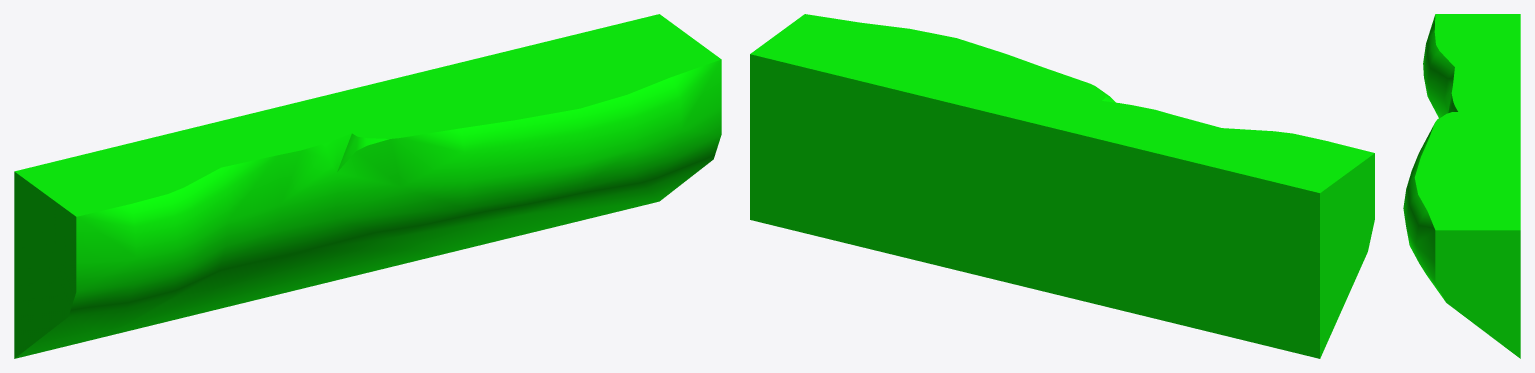
File: SM_GrassGround_18.FBX
The picture shows the model from 3 angles, left to right: view 1: azimuth 30°, elevation 25°; view 2: azimuth 150°, elevation 25°; view 3: azimuth 270°, elevation 25°; orthographic projection. The views are drawn at different scales.
Parts seen in each view (by area): view 1: 18; view 2: 18; view 3: 18.
Boxes of the visible parts, x1,y1,x2,y2 form: 18: [14, 14, 721, 358]; 18: [750, 14, 1374, 358]; 18: [1403, 14, 1520, 358].
Size of the model in its own units: 150 by 41.62 by 34.33.
